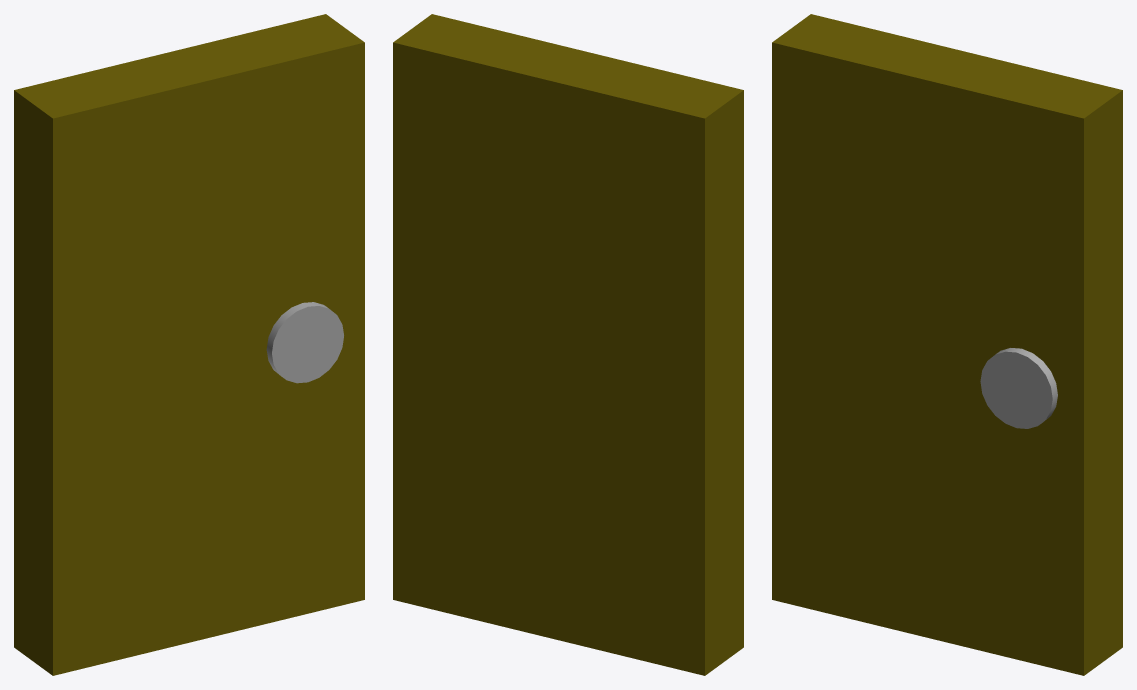
The model's file is GoalFlag.fbx.
3 views of the same model, side by side, from view 1: azimuth 30°, elevation 25°; view 2: azimuth 150°, elevation 25°; view 3: azimuth 330°, elevation 25° (orthographic).
Parts seen in each view (by area): view 1: pCube2; view 2: pCube2; view 3: pCube2.
Part boxes in pixels (x1=…): pCube2: x1=14, y1=14, x2=364, y2=675; pCube2: x1=393, y1=14, x2=743, y2=675; pCube2: x1=772, y1=14, x2=1122, y2=675.
Bounding box in the file's own units: 1 × 1.71 × 0.2453.
